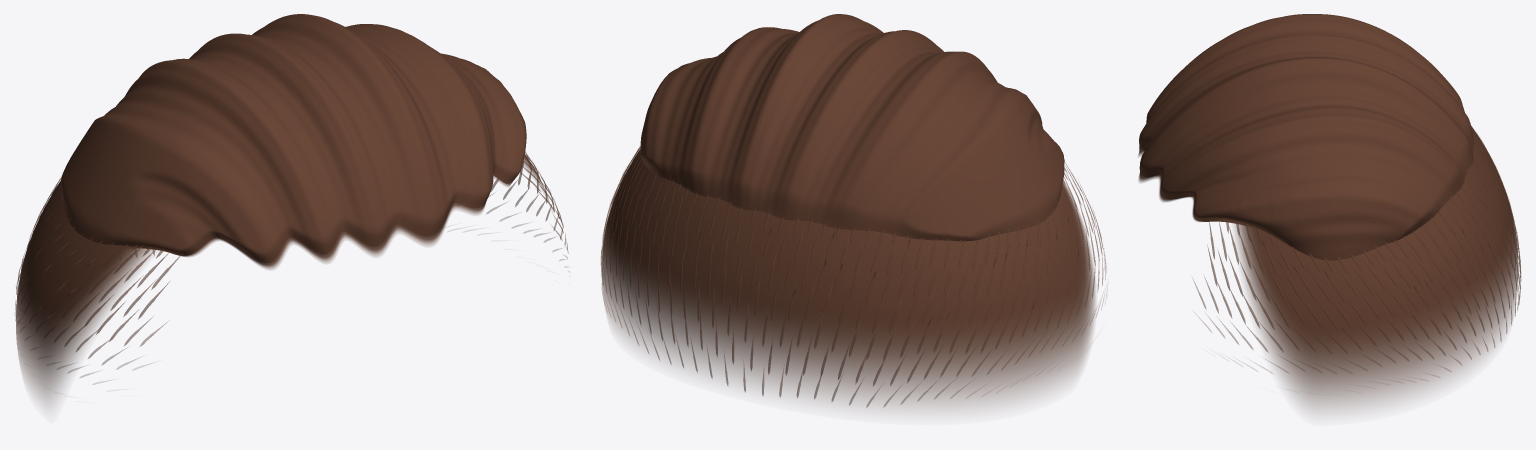
File: Masculine-sidepart-beanie259-hair.glb
The picture shows the model from 3 angles, left to right: view 1: azimuth 30°, elevation 25°; view 2: azimuth 150°, elevation 25°; view 3: azimuth 270°, elevation 25°; orthographic projection. The views are drawn at different scales.
Parts seen in each view (by area): view 1: 226 hair / Hair259 / textured forward Crop, 226 hair / Hair258 / smooth side fade, 226 hair / Hair259 / directional fade marks214; view 2: 226 hair / Hair258 / smooth side fade, 226 hair / Hair259 / textured forward Crop, 226 hair / Hair259 / directional fade marks214; view 3: 226 hair / Hair259 / textured forward Crop, 226 hair / Hair258 / smooth side fade, 226 hair / Hair259 / directional fade marks214.
Part boxes in pixels (bbox=[...]): 226 hair / Hair259 / textured forward Crop: bbox=[61, 14, 526, 269]; 226 hair / Hair258 / smooth side fade: bbox=[16, 154, 551, 405]; 226 hair / Hair259 / directional fade marks214: bbox=[15, 152, 568, 384]; 226 hair / Hair258 / smooth side fade: bbox=[601, 149, 1095, 409]; 226 hair / Hair259 / textured forward Crop: bbox=[640, 14, 1064, 241]; 226 hair / Hair259 / directional fade marks214: bbox=[601, 146, 1107, 407]; 226 hair / Hair259 / textured forward Crop: bbox=[1138, 14, 1474, 260]; 226 hair / Hair258 / smooth side fade: bbox=[1234, 128, 1518, 411]; 226 hair / Hair259 / directional fade marks214: bbox=[1193, 125, 1521, 380].
Size of the model in its own units: 0.9743 by 0.6424 by 0.7545.
